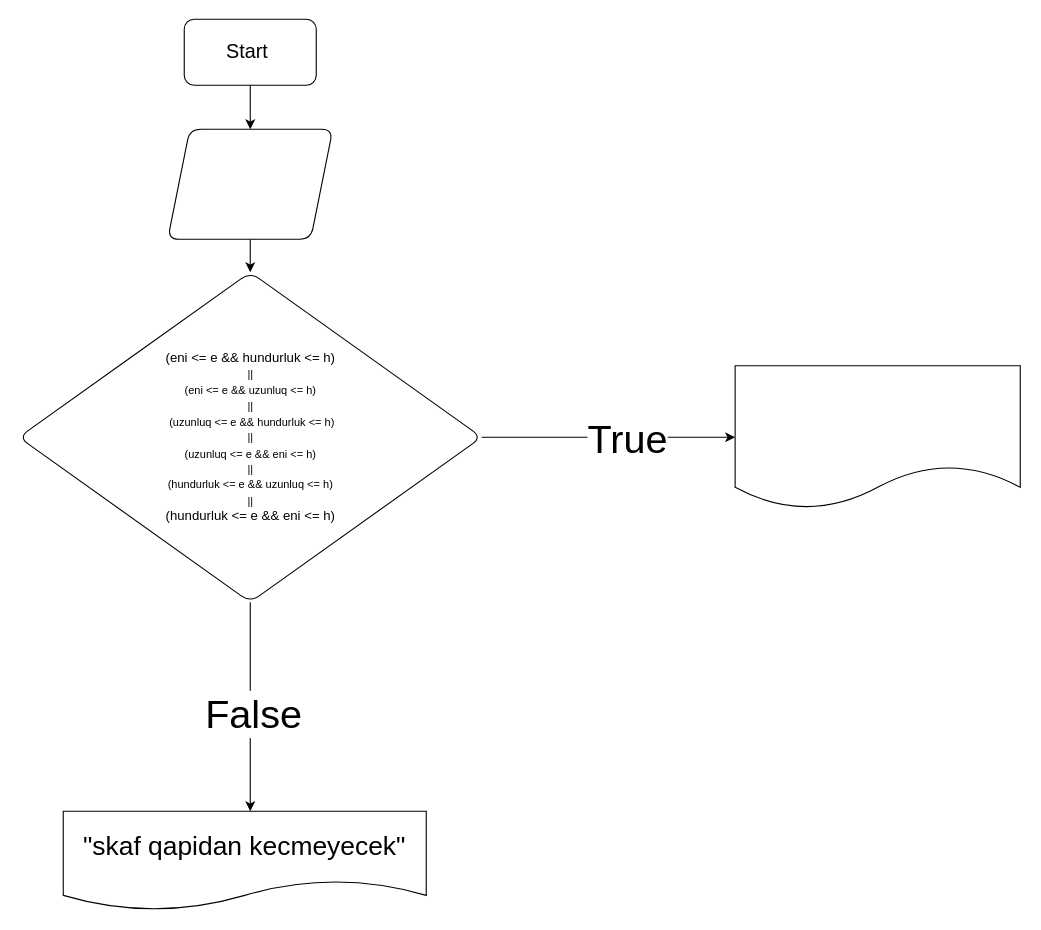
Image size: 1041x930. Some labels were removed from this diagram. Here are the shapes that lost their labels. From the top down, the box of each, then its label:
(167, 128, 333, 239): eni, hundurluyu, uzunluq, int e, int h
(734, 365, 1020, 509): "skaf qapidan kececek"
